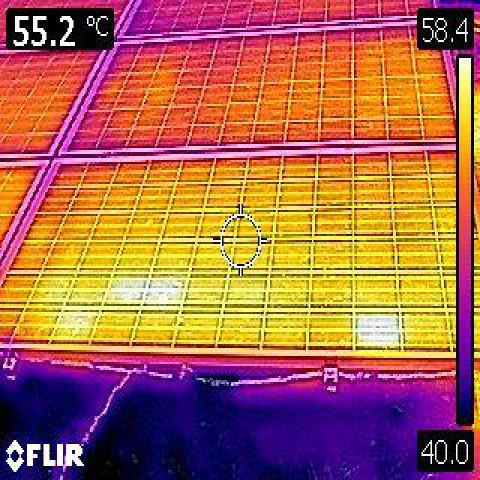fault: (359, 315, 400, 345), (150, 277, 182, 306), (112, 275, 140, 303)
